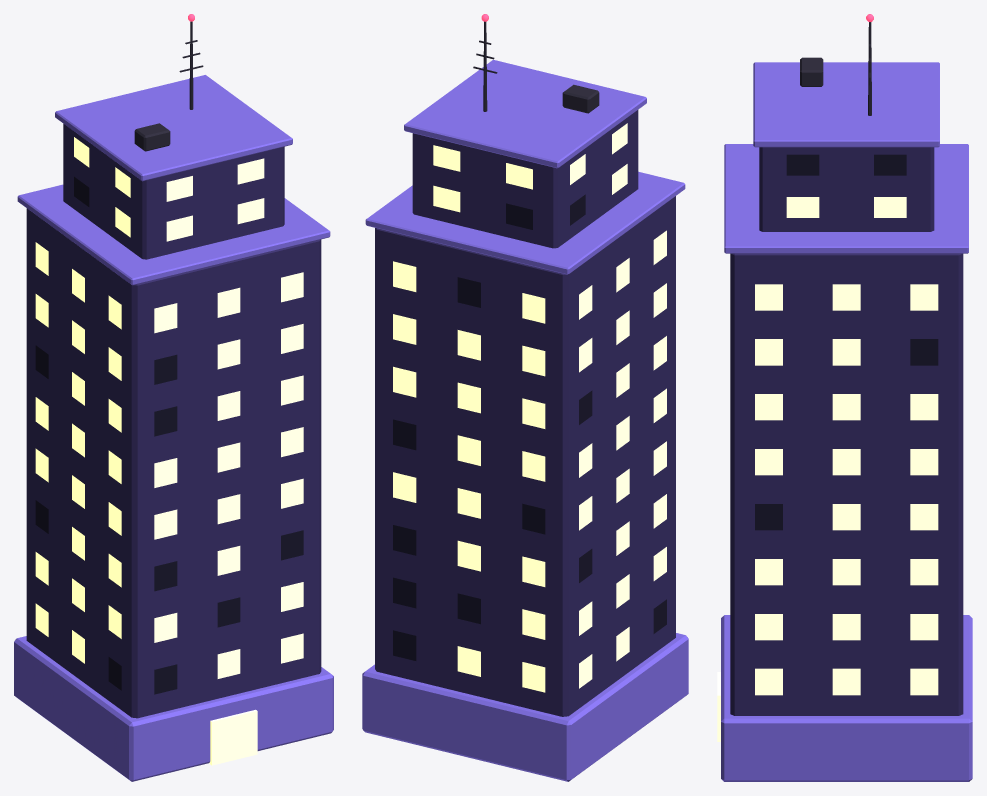
Rendered from building_a.glb.
3 renders of one model, left to right at view 1: azimuth 30°, elevation 25°; view 2: azimuth 150°, elevation 25°; view 3: azimuth 270°, elevation 25°, orthographic. The views are drawn at different scales.
Visible parts, largest first — view 1: building_a; view 2: building_a; view 3: building_a.
Part boxes in pixels (x1=…): building_a: x1=14, y1=14, x2=333, y2=781; building_a: x1=362, y1=14, x2=688, y2=781; building_a: x1=717, y1=14, x2=972, y2=781.
Size of the model in its own units: 10.8 by 34.58 by 10.95.
